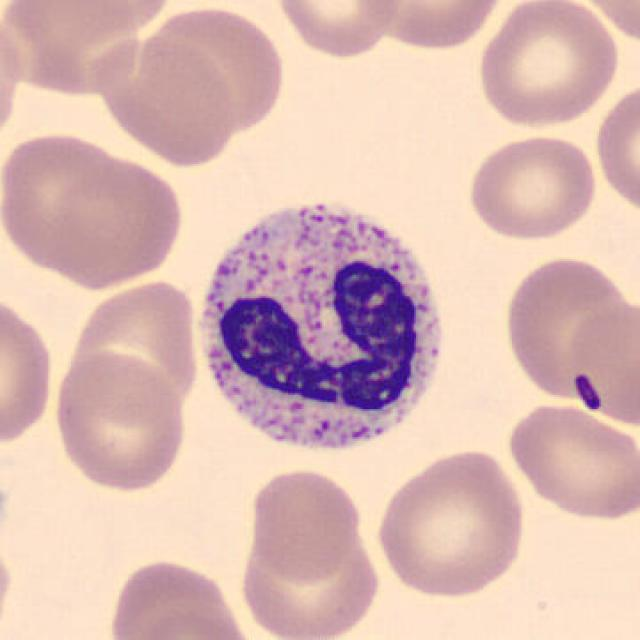Neutrophil: (185, 183, 460, 471)
RBC: (0, 129, 187, 291), (372, 444, 532, 602), (500, 250, 634, 406), (98, 28, 245, 169), (62, 275, 203, 421), (50, 349, 190, 496), (140, 2, 290, 138), (473, 0, 624, 130), (236, 523, 380, 640), (503, 400, 638, 524), (462, 130, 601, 244), (0, 0, 150, 100), (243, 464, 364, 584), (105, 555, 252, 640), (562, 294, 640, 428), (0, 288, 59, 452), (268, 0, 406, 60), (358, 0, 510, 51), (22, 0, 182, 41), (592, 78, 638, 220), (120, 606, 252, 640), (0, 11, 27, 155), (576, 0, 640, 46)
